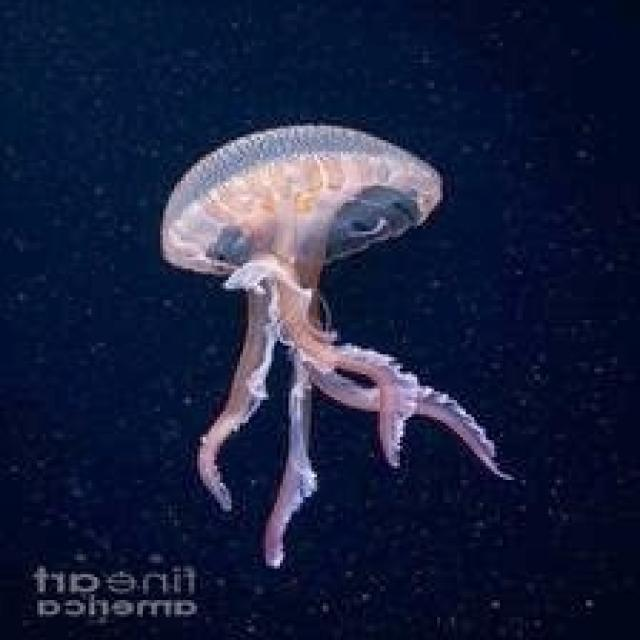Jellyfish: (157, 120, 514, 569)
